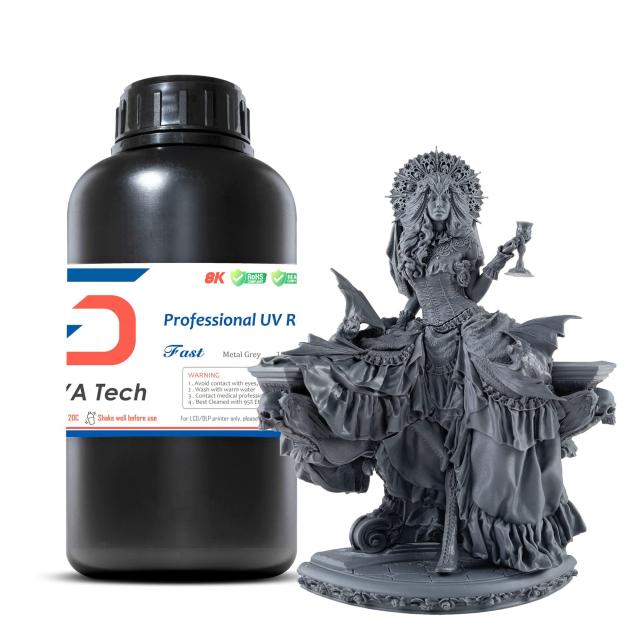Without deffect: (262, 138, 640, 620)
